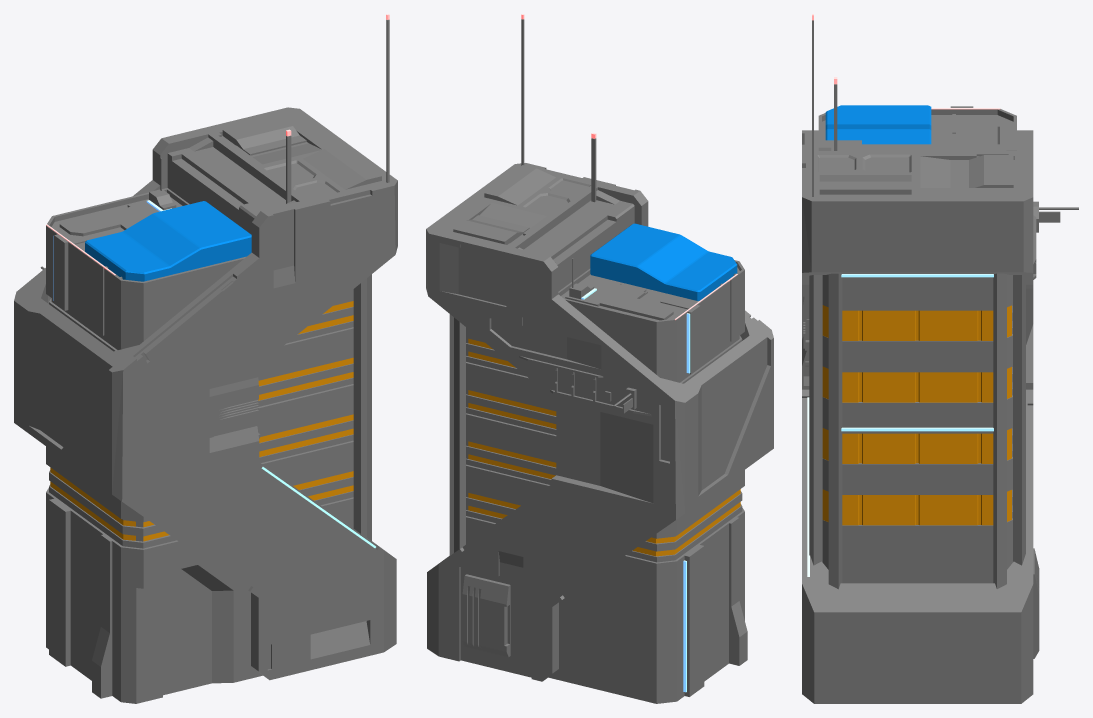
Rendered from Building_F_Top.fbx.
3 views of the same model, side by side, from view 1: azimuth 30°, elevation 25°; view 2: azimuth 150°, elevation 25°; view 3: azimuth 270°, elevation 25° (orthographic). The views are drawn at different scales.
Visible parts, largest first — view 1: Building_F_Frame, Building_F_Base, Glass_Blue, Glass_Orange; view 2: Building_F_Frame, Building_F_Base, Glass_Blue, Glass_Orange, Emissive_Blue; view 3: Building_F_Frame, Building_F_Base, Glass_Orange, Glass_Blue, Emissive_Blue.
Boxes of the visible parts, box(x1,y1,x2,y2) form: Building_F_Frame: box(14, 19, 397, 680); Building_F_Base: box(46, 158, 371, 703); Glass_Blue: box(85, 201, 251, 281); Glass_Orange: box(50, 301, 353, 541); Building_F_Frame: box(426, 19, 773, 681); Building_F_Base: box(449, 258, 747, 703); Glass_Blue: box(590, 223, 737, 300); Glass_Orange: box(468, 338, 740, 556); Emissive_Blue: box(581, 288, 698, 692); Building_F_Frame: box(802, 20, 1078, 703); Building_F_Base: box(809, 106, 1025, 589); Glass_Orange: box(822, 305, 1011, 525); Glass_Blue: box(825, 105, 931, 144); Emissive_Blue: box(807, 274, 993, 576).
Bounding box in the file's own units: 8475 × 17925 × 6560.
